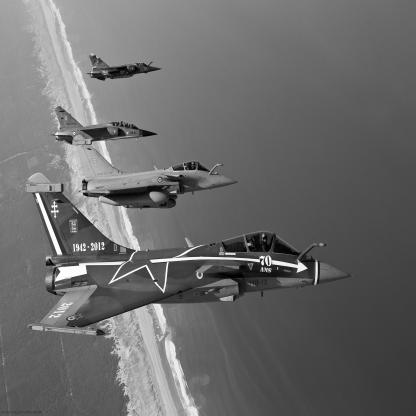Mirage2000: (48, 107, 161, 146), (86, 54, 165, 82)
Rafale: (26, 173, 354, 337), (73, 136, 240, 212)
